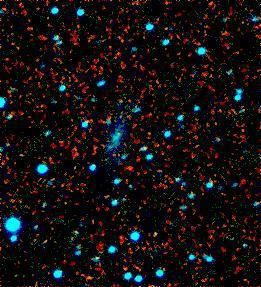star: (113, 149, 143, 179)
